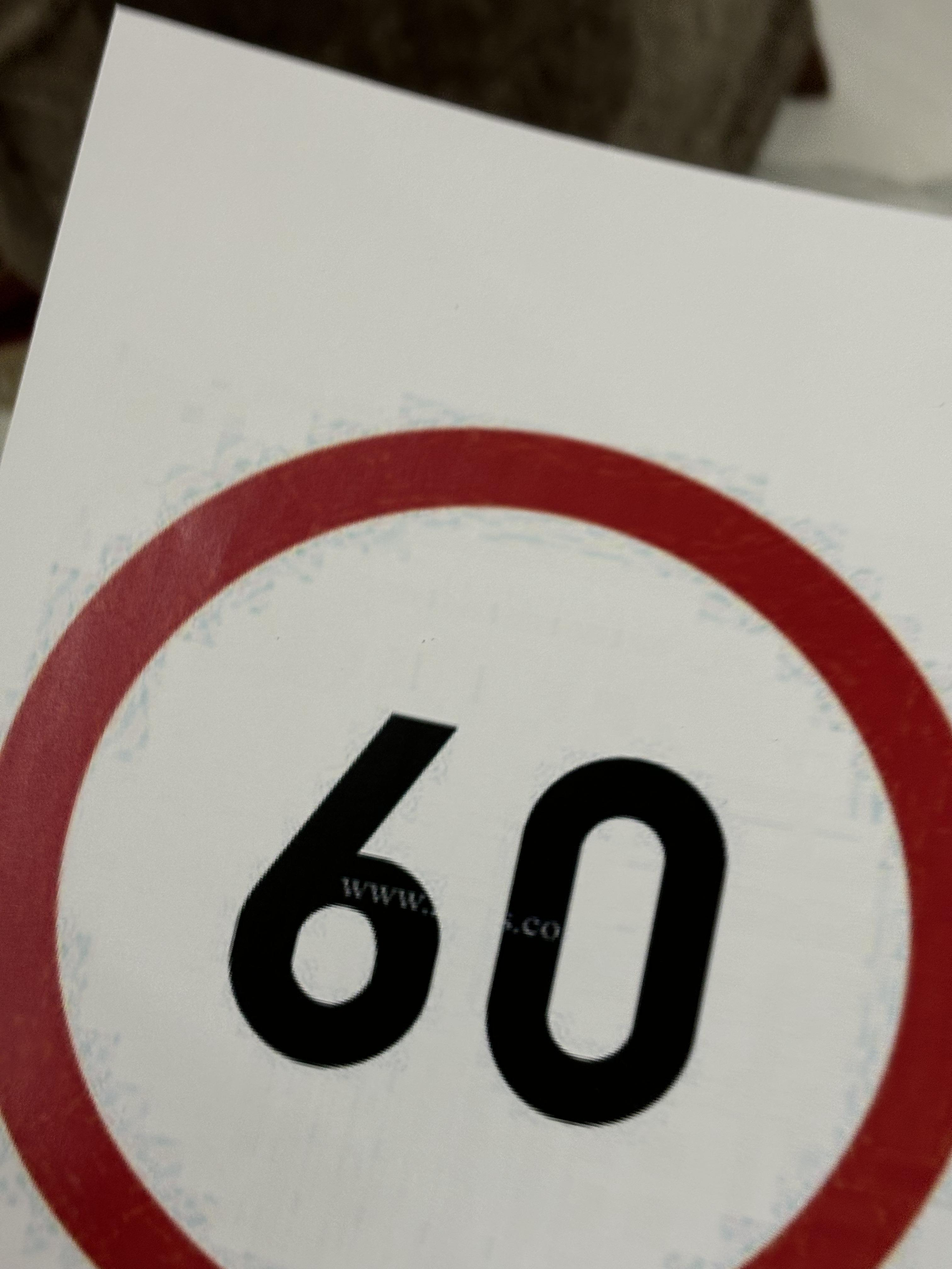60-Speed: (10, 407, 952, 1269)
